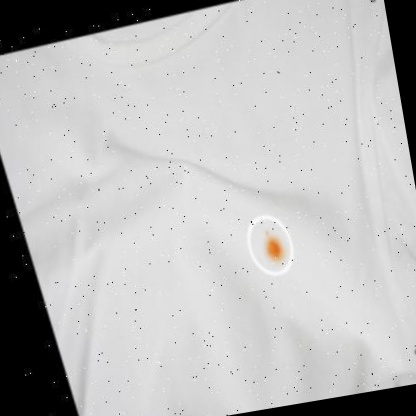kimchi: (257, 229, 286, 264)
